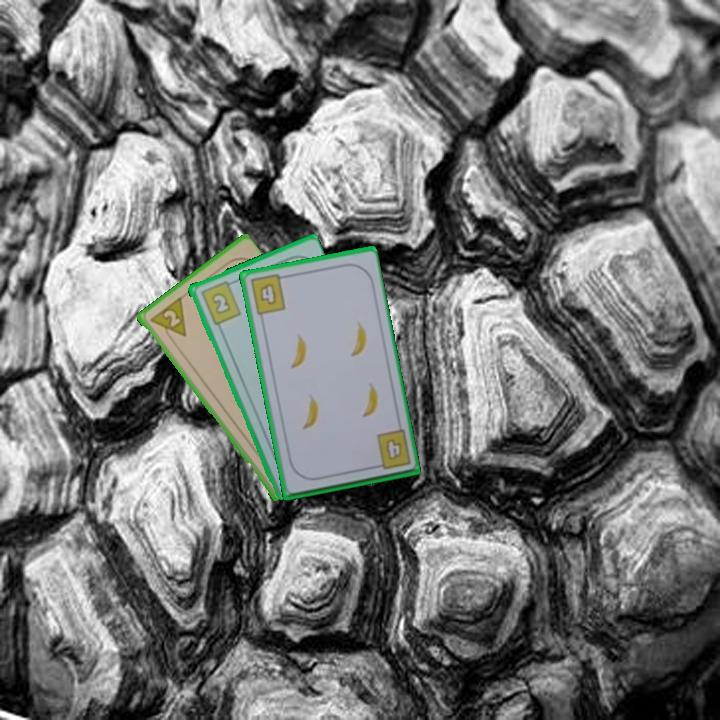2b: (197, 277, 244, 328)
2p: (146, 294, 189, 346)
4b: (369, 426, 413, 473), (247, 271, 289, 318)
